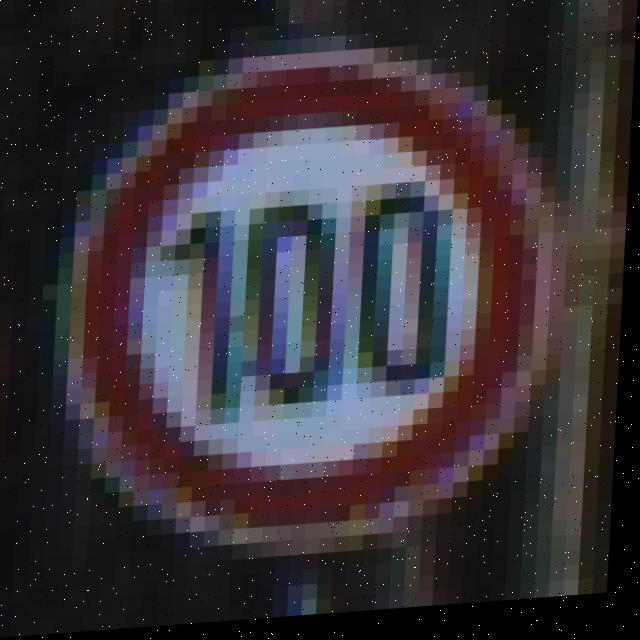speed_limit_100: (58, 33, 571, 565)
